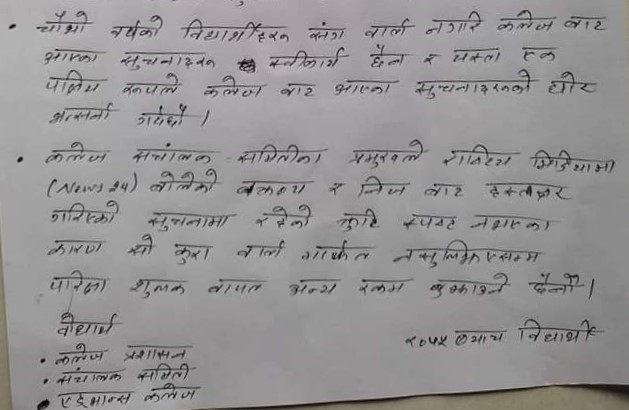text: (388, 238, 542, 268), (413, 68, 535, 98), (182, 17, 294, 47), (516, 317, 600, 349), (427, 269, 509, 300), (530, 148, 617, 177), (348, 137, 429, 168), (486, 176, 568, 205), (438, 142, 517, 172), (146, 167, 221, 197), (404, 327, 506, 349), (237, 143, 326, 168), (39, 139, 114, 168), (131, 142, 214, 168), (116, 49, 217, 70), (47, 200, 124, 227), (268, 45, 346, 71), (299, 237, 373, 264), (468, 212, 553, 235), (49, 268, 109, 299), (494, 8, 558, 37), (145, 211, 229, 233), (423, 8, 484, 38), (43, 68, 103, 98), (254, 201, 316, 230), (53, 310, 116, 338), (33, 7, 91, 37), (53, 388, 132, 410), (234, 175, 308, 198), (121, 71, 183, 98), (201, 74, 266, 99), (47, 102, 116, 125), (126, 274, 186, 300), (525, 268, 585, 294), (355, 174, 412, 201), (108, 14, 167, 40), (546, 71, 598, 99), (42, 236, 104, 259), (134, 103, 188, 129), (329, 77, 398, 96), (55, 367, 124, 386), (335, 206, 383, 233), (365, 41, 408, 71), (286, 276, 342, 299), (401, 211, 459, 233), (171, 239, 214, 268), (119, 343, 188, 361), (53, 343, 109, 365), (355, 276, 408, 299), (136, 362, 196, 382), (206, 275, 263, 296), (450, 44, 502, 67), (235, 238, 288, 260), (144, 383, 199, 404), (42, 47, 102, 66), (422, 179, 468, 203), (362, 16, 409, 39), (562, 12, 609, 35), (517, 42, 562, 63), (278, 78, 317, 101), (127, 233, 157, 260), (305, 22, 347, 41), (421, 50, 441, 70), (326, 179, 345, 200)
